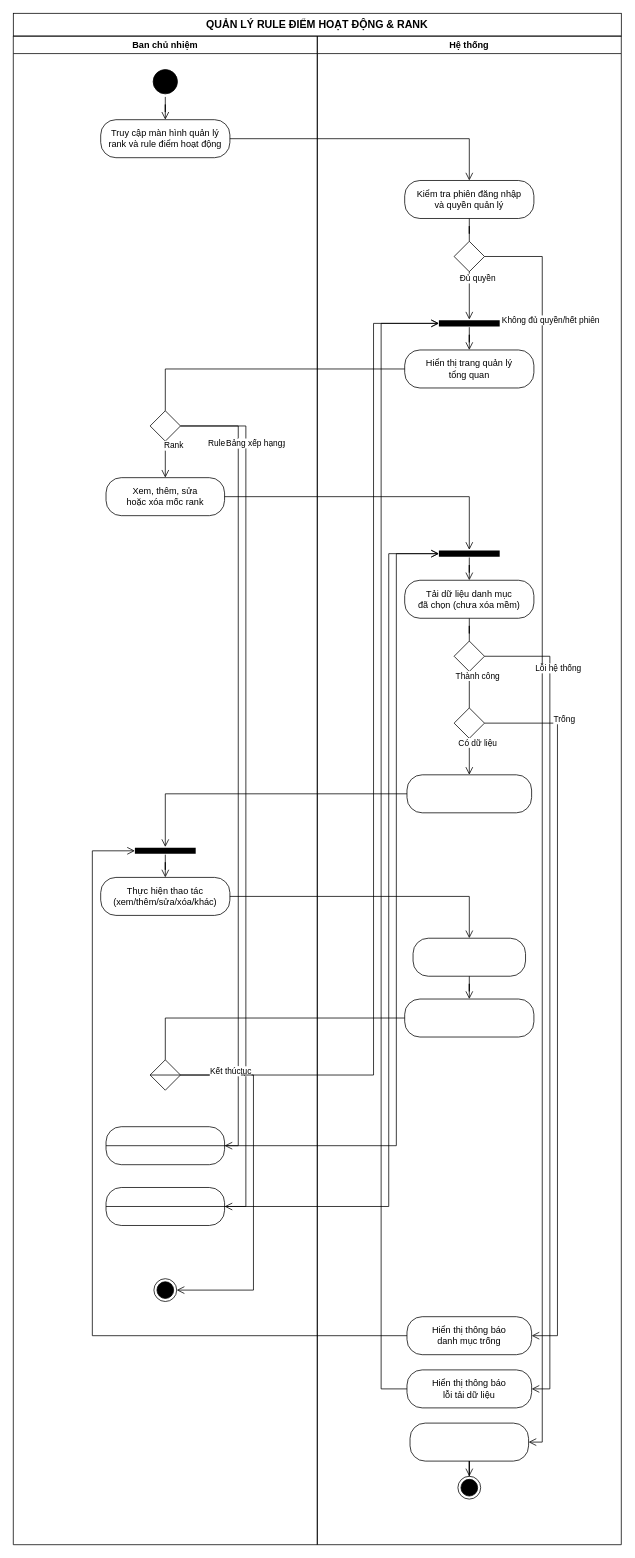
The diagram is 635 pixels wide and 1558 high, and some of its shapes have lost their labels. Each missing label, with the centre of its shape:
"Cập nhật dữ liệu tương ứng" belongs at (x=469, y=956).
"Hiển thị danh sách dữ liệu tương ứng" belongs at (x=469, y=793).
"Hiển thị lỗi 403, từ chối truy cập" belongs at (x=469, y=1441).
"Hiển thị thông báo cập nhật thành công" belongs at (x=469, y=1017).
"Xem bảng xếp hạng điểm cộng đồng" belongs at (x=165, y=1206).
"Xem, sửa cấu hình rule tích điểm" belongs at (x=165, y=1145).
